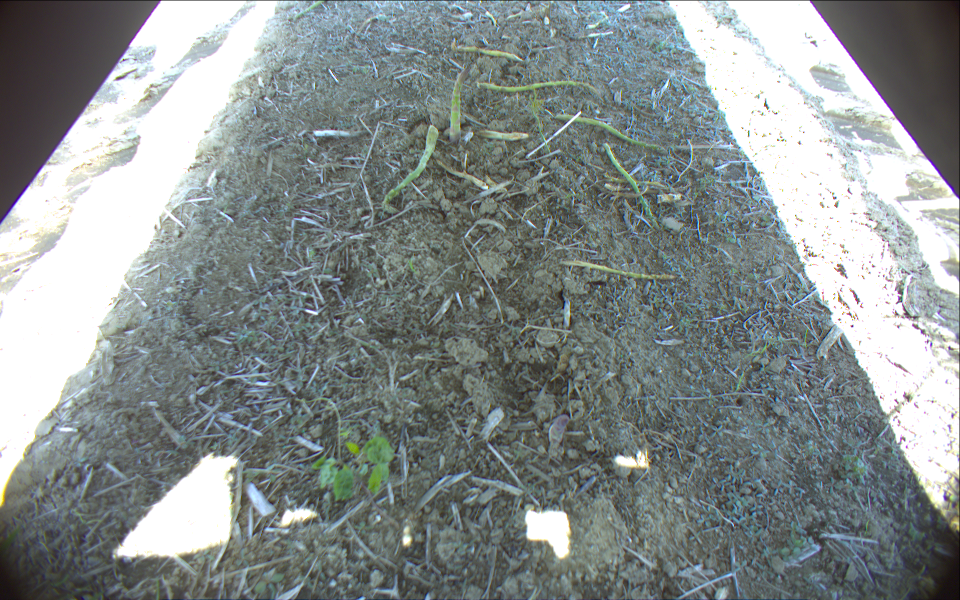aspa: (381, 125, 438, 211), (555, 113, 670, 149), (603, 143, 653, 222), (449, 60, 476, 143), (562, 261, 677, 280), (476, 80, 601, 96), (454, 44, 523, 63), (505, 1, 555, 21), (292, 1, 325, 21), (586, 9, 609, 29), (576, 32, 616, 43), (486, 11, 497, 27)
